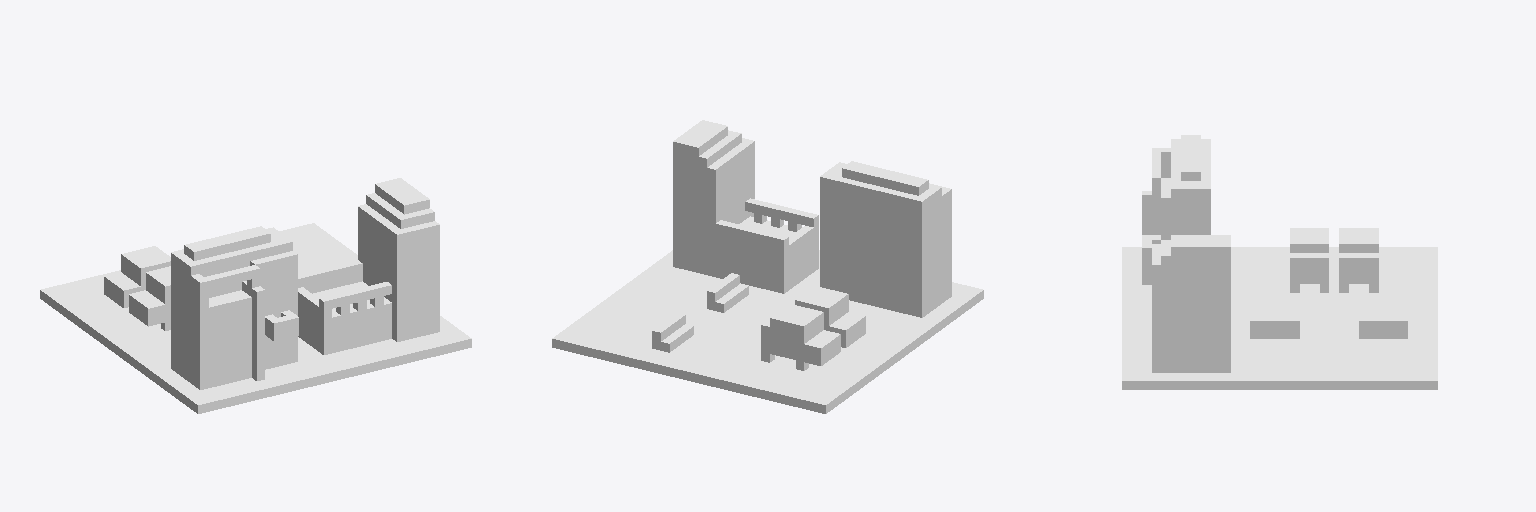
The model's file is house5.obj.
3 renders of one model, left to right at view 1: azimuth 30°, elevation 25°; view 2: azimuth 150°, elevation 25°; view 3: azimuth 270°, elevation 25°, orthographic.
Visible parts, largest first — view 1: object 1; view 2: object 1; view 3: object 1.
Boxes of the visible parts, <box> form: object 1: <box>40,178,471,413</box>; object 1: <box>552,120,983,413</box>; object 1: <box>1122,135,1437,389</box>.
Bounding box in the file's own units: 3.2 × 1.5 × 3.2.